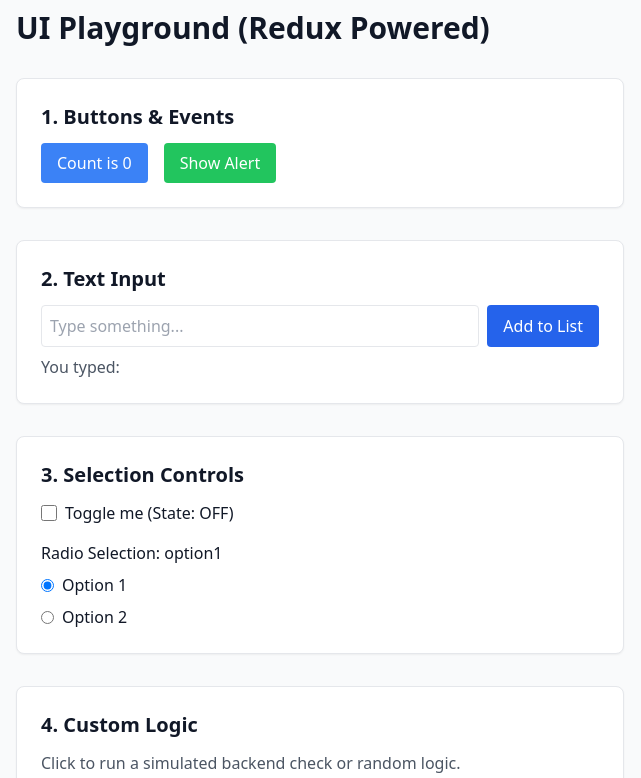
Playground Component › increments counter on button click
The image size is (641, 778).
What coordinates should you click on to do the following:
click the button "Count is 0"
I would click on:
 (94, 163)
Its box is [41,143,148,183].
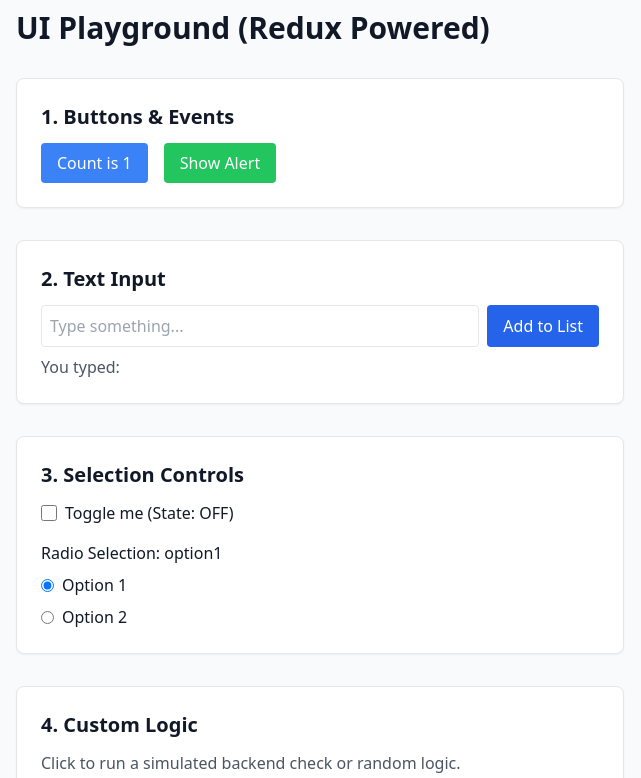
Check: the button "Count is 1" is shown, box [41,143,148,183]
